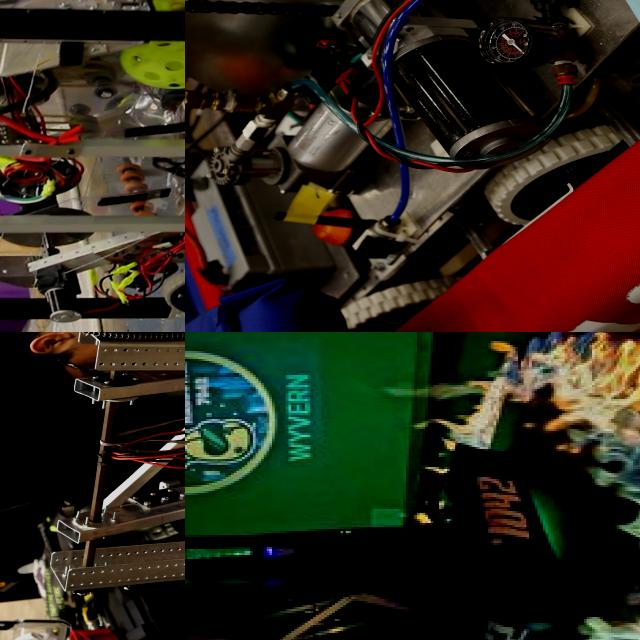FRC-Robots: (185, 0, 640, 332), (185, 351, 573, 640), (0, 0, 185, 326), (64, 332, 185, 626)
